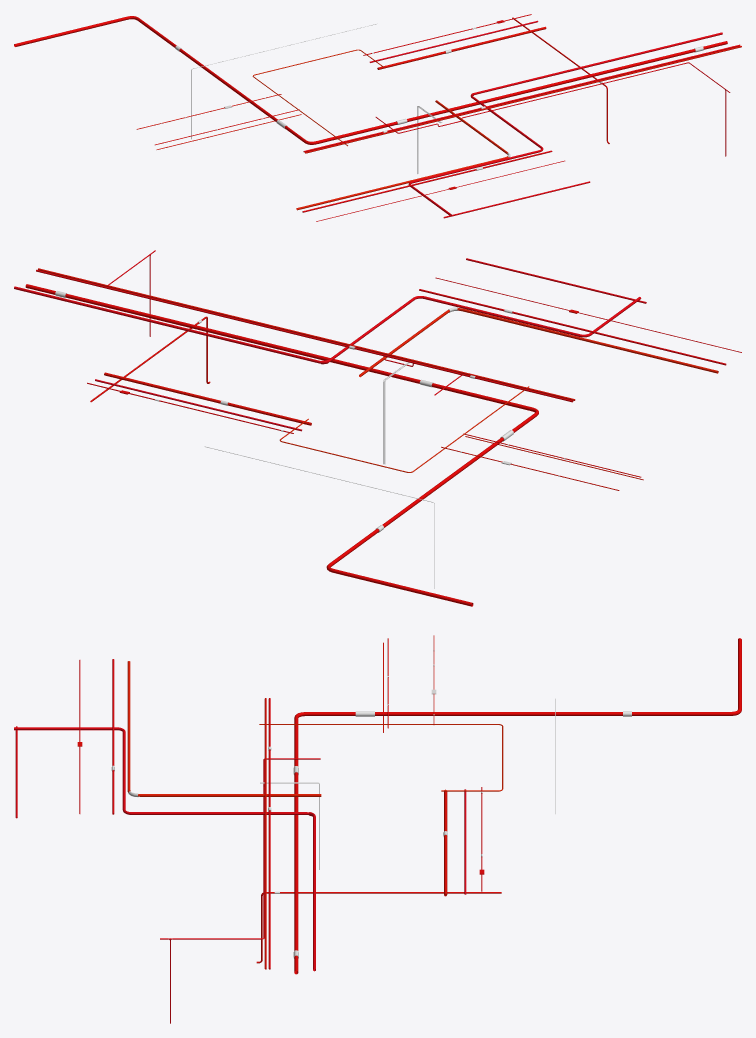
The model's file is hallway_pipes.fbx.
The picture shows the model from 3 angles, top to bottom: view 1: azimuth 30°, elevation 25°; view 2: azimuth 150°, elevation 25°; view 3: azimuth 270°, elevation 25°; orthographic projection. The views are drawn at different scales.
Parts seen in each view (by area): view 1: Plane.004, Plane.010, Cylinder.002, Cylinder.003, Plane, Plane.018, Cylinder.005, Cylinder, Cylinder.001, Plane.011; view 2: Plane.004, Plane.010, Cylinder.003, Cylinder.002, Plane, Cylinder.005, Cylinder; view 3: Plane.004, Plane.010, Plane, Cylinder.003, Cylinder.002, Plane.018.
Part boxes in pixels (bbox=[...]): Plane.004: bbox=[14, 16, 727, 144]; Plane.010: bbox=[408, 32, 722, 216]; Cylinder.002: bbox=[305, 46, 741, 153]; Cylinder.003: bbox=[303, 44, 740, 152]; Plane: bbox=[296, 100, 510, 210]; Plane.018: bbox=[375, 62, 730, 156]; Cylinder.005: bbox=[302, 150, 552, 212]; Cylinder: bbox=[377, 26, 546, 69]; Cylinder.001: bbox=[369, 20, 538, 62]; Plane.011: bbox=[252, 49, 383, 146]; Plane.004: bbox=[25, 284, 538, 606]; Plane.010: bbox=[14, 286, 641, 364]; Cylinder.003: bbox=[36, 269, 573, 402]; Cylinder.002: bbox=[38, 268, 575, 400]; Plane: bbox=[359, 307, 718, 377]; Cylinder.005: bbox=[419, 289, 726, 365]; Cylinder: bbox=[104, 372, 311, 425]; Plane.004: bbox=[293, 638, 741, 974]; Plane.010: bbox=[14, 727, 315, 971]; Plane: bbox=[127, 661, 321, 796]; Cylinder.003: bbox=[268, 698, 271, 969]; Cylinder.002: bbox=[264, 698, 266, 969]; Plane.018: bbox=[160, 758, 320, 1023].
Bounding box in the file's own units: 2704 × 340 × 2490.
